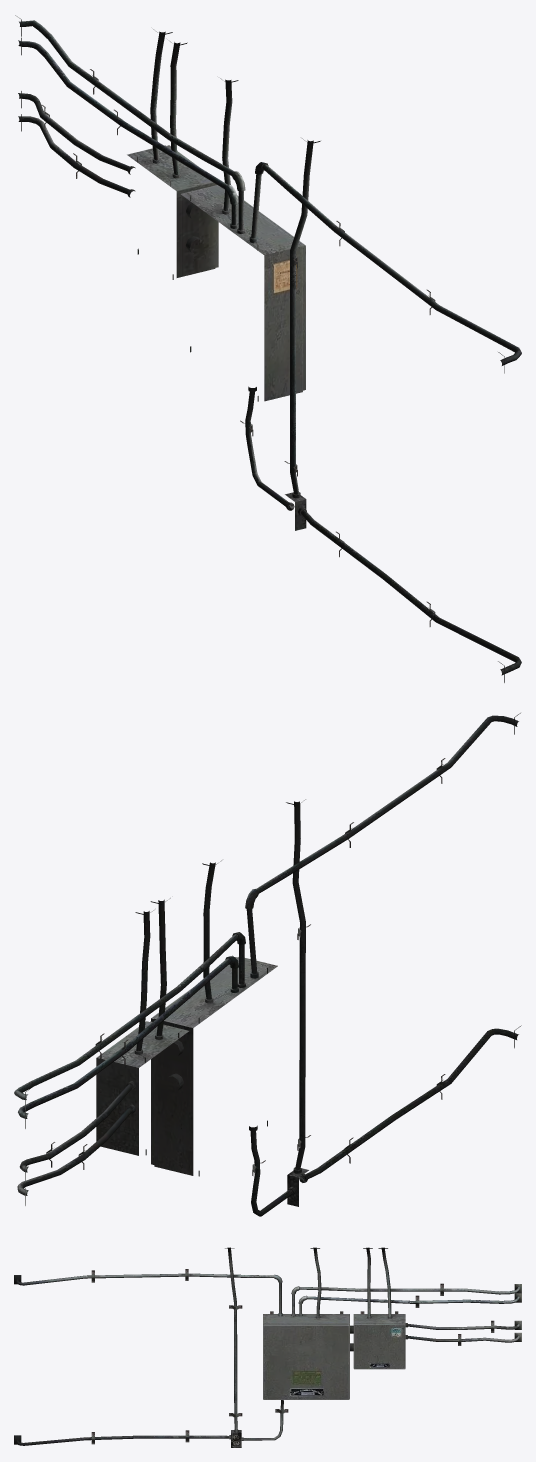
File: electricalbox02.glb
3 renders of one model, top to bottom at view 1: azimuth 30°, elevation 25°; view 2: azimuth 150°, elevation 25°; view 3: azimuth 270°, elevation 25°, orthographic. The views are drawn at different scales.
Visible parts, largest first — view 1: 0_ElectricalBox02; view 2: 0_ElectricalBox02; view 3: 0_ElectricalBox02.
Boxes of the visible parts, bbox=[...] form: 0_ElectricalBox02: bbox=[15, 15, 521, 682]; 0_ElectricalBox02: bbox=[14, 713, 521, 1216]; 0_ElectricalBox02: bbox=[14, 1247, 521, 1447].
Bounding box in the file's own units: 0.3142 × 2.73 × 6.23.
Materials: 1 (1 with a texture image).
